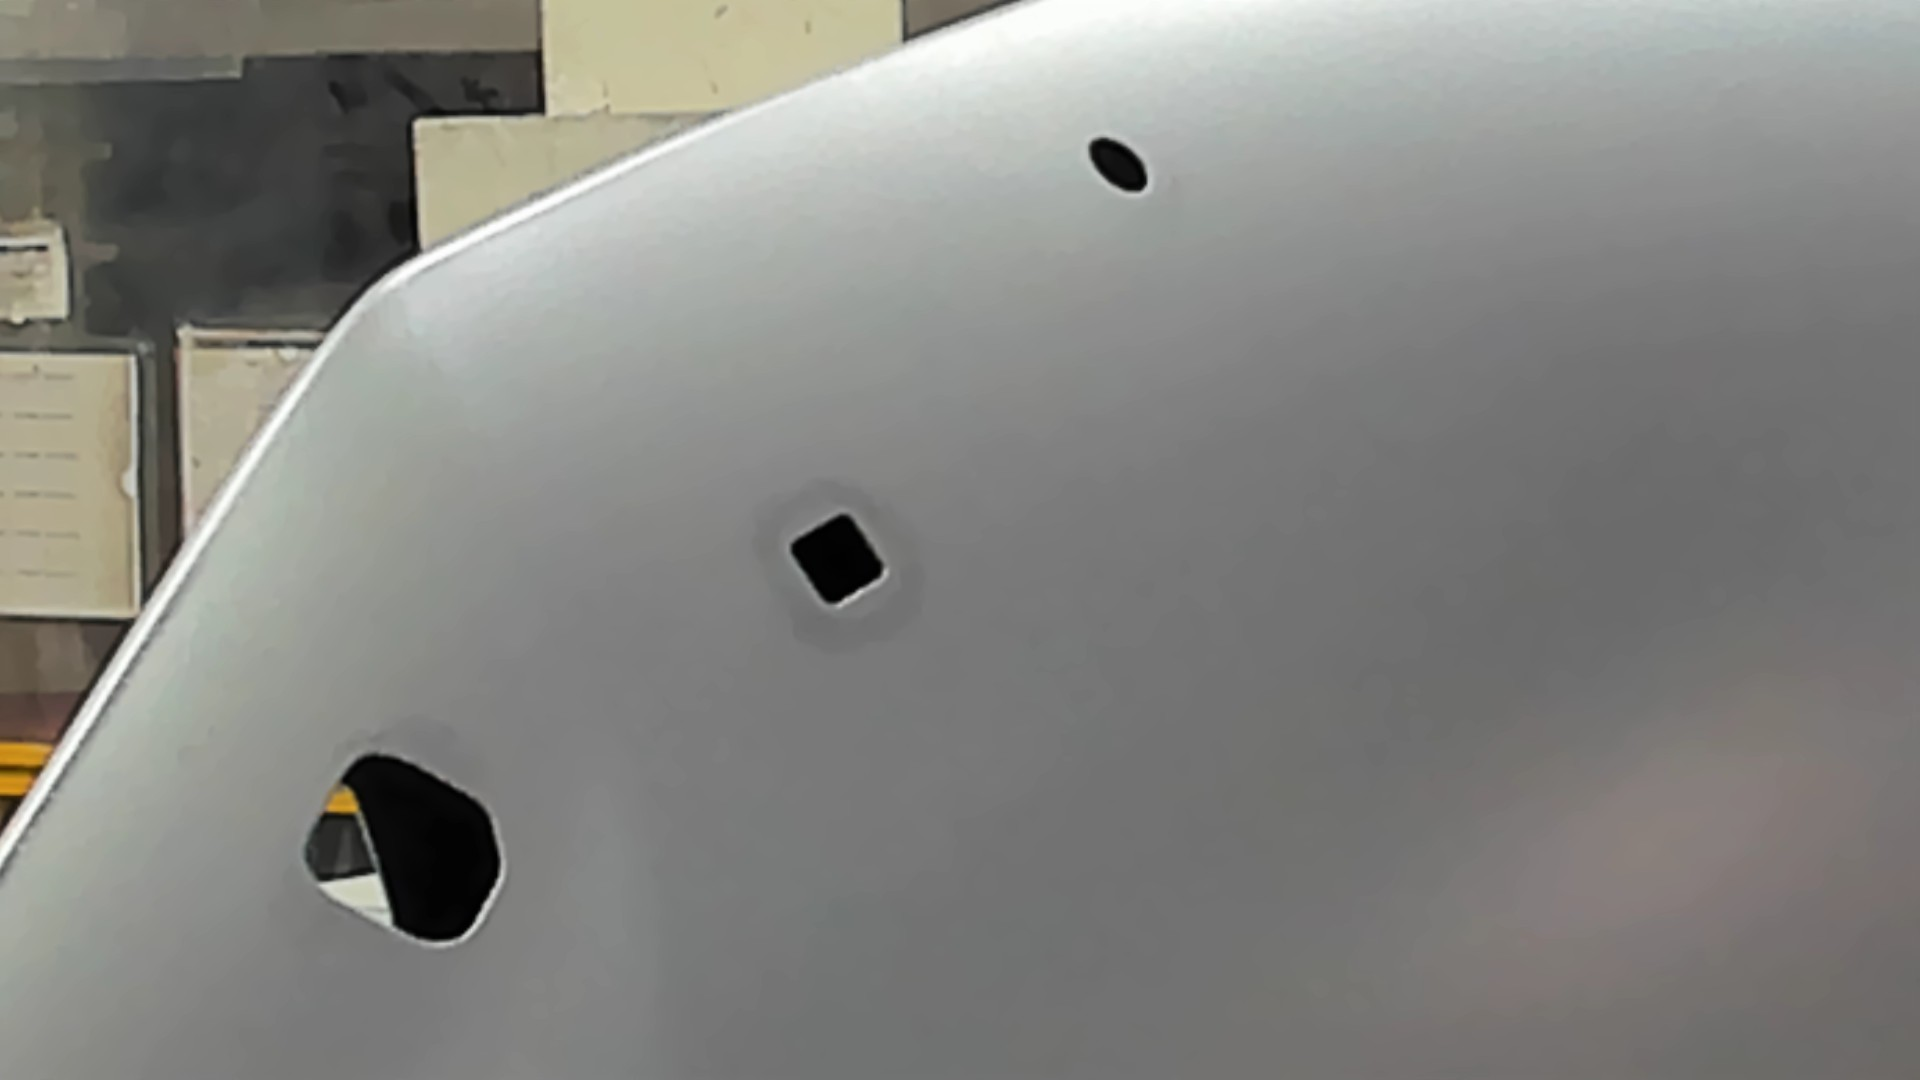capo: (891, 206, 1920, 1080)
chico: (1087, 132, 1153, 196)
grande: (295, 745, 506, 959)
mediano: (774, 504, 895, 617)
